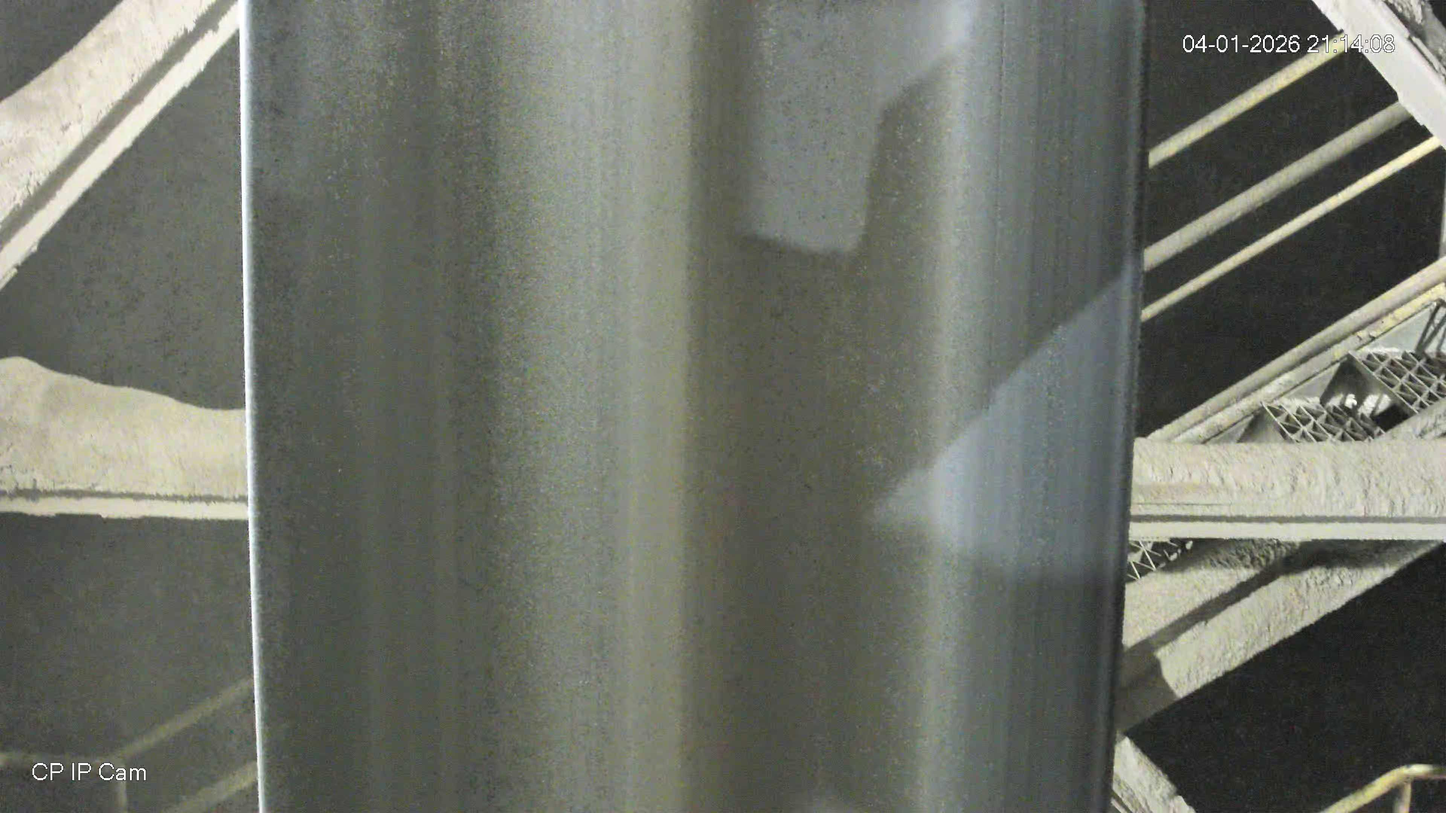belt_roi: (243, 2, 1156, 813)
